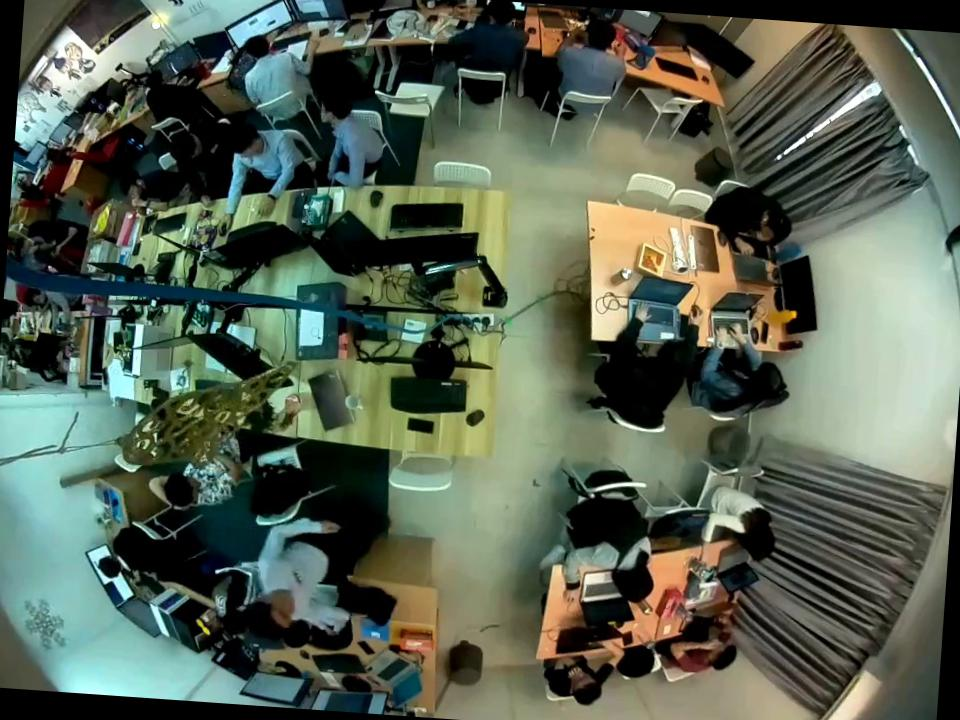employee_tag: (287, 567, 309, 589)
